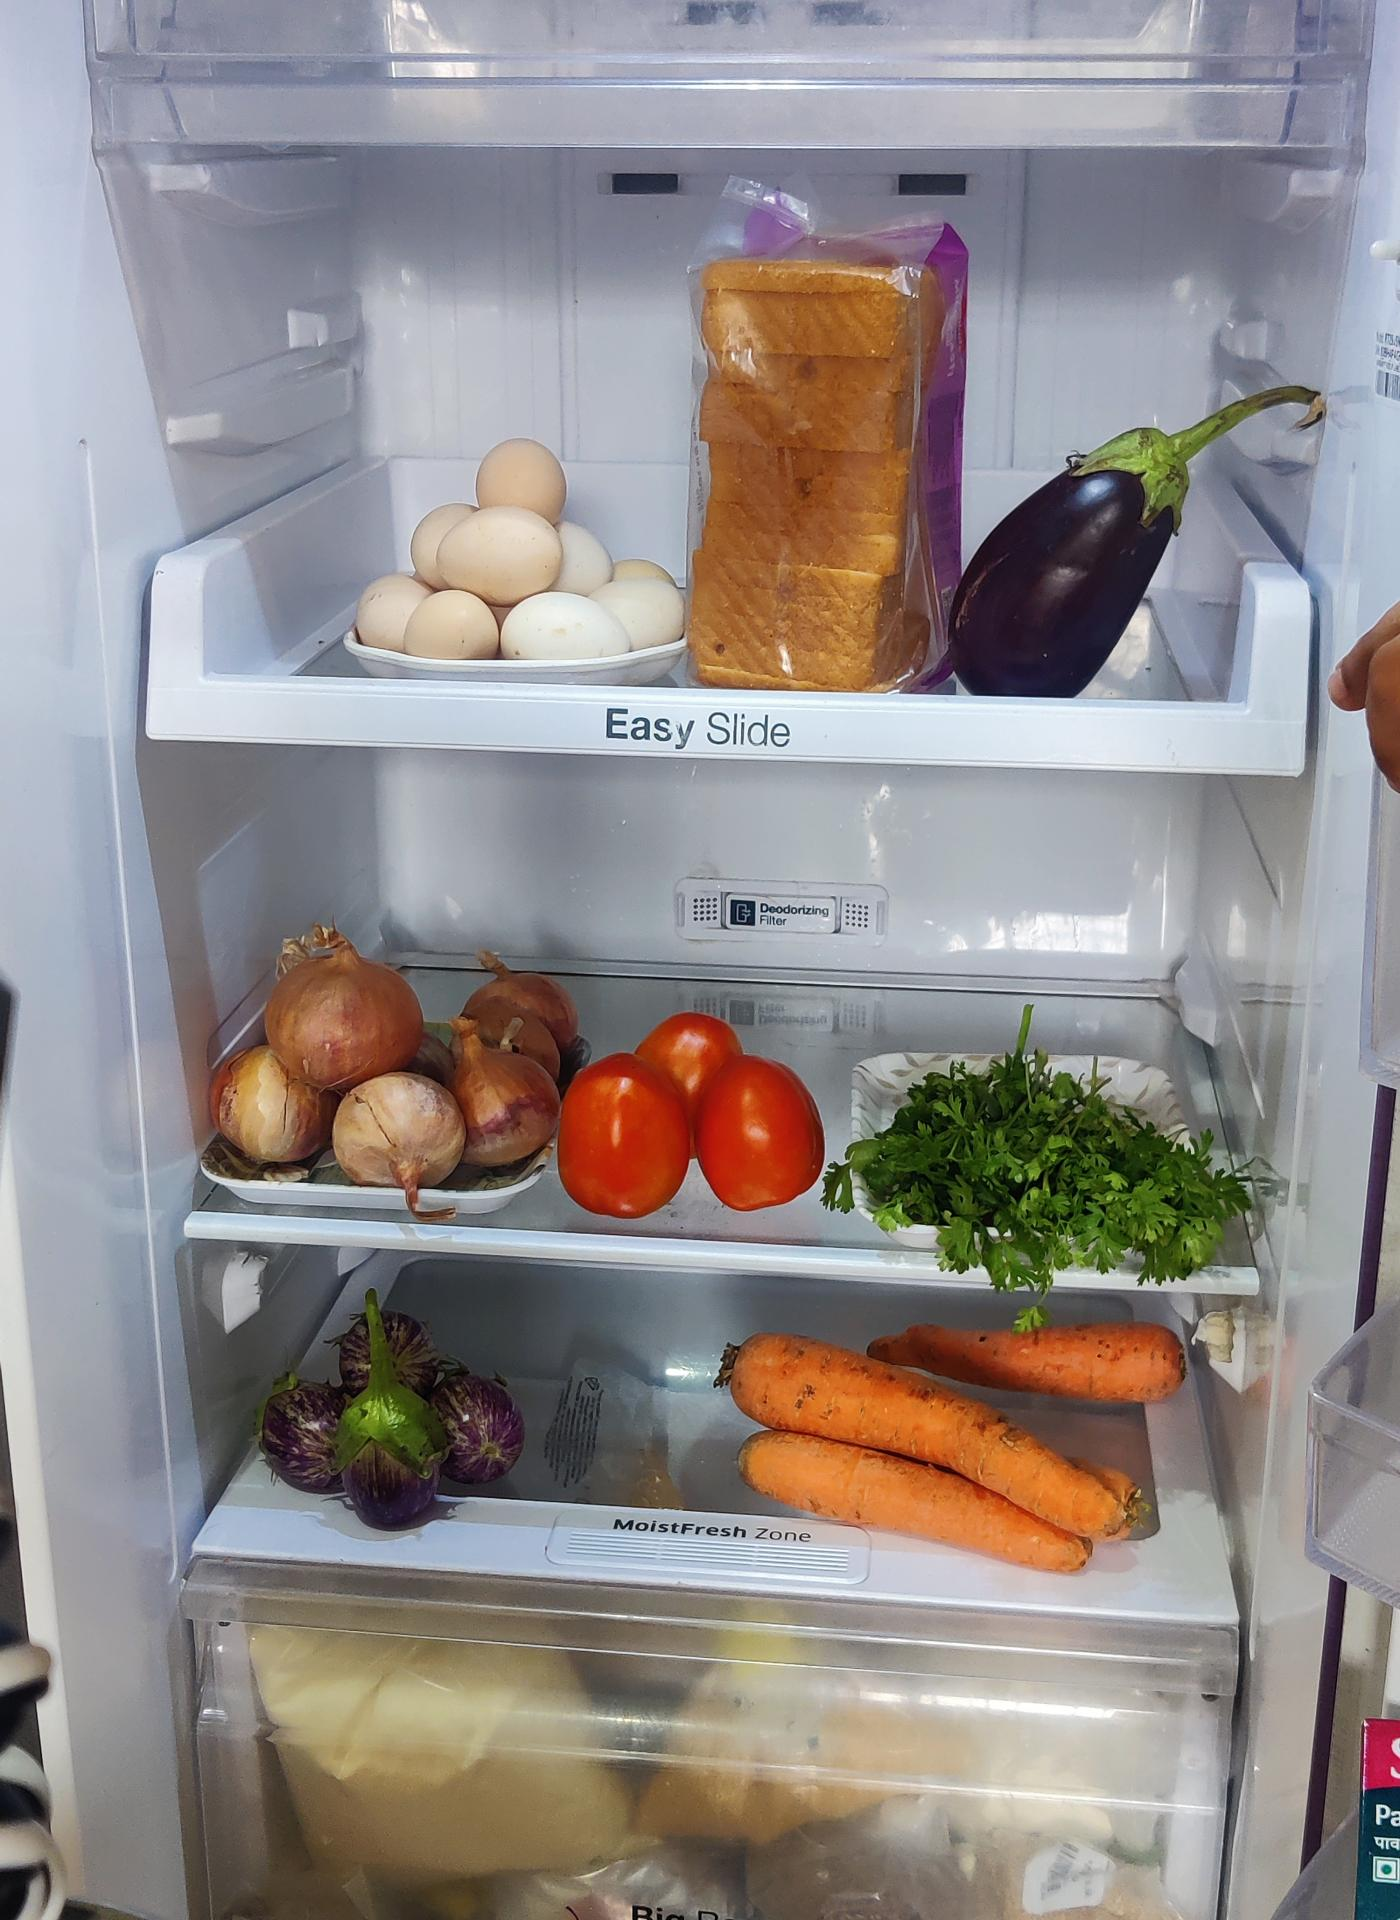bread: (683, 219, 972, 690)
brinjal: (249, 1283, 532, 1528), (972, 404, 1205, 683)
carrots: (716, 1333, 1176, 1576)
coriander: (844, 1058, 1257, 1295)
egg: (344, 431, 671, 665)
onion: (213, 926, 589, 1190)
tomato: (558, 1009, 823, 1212)
